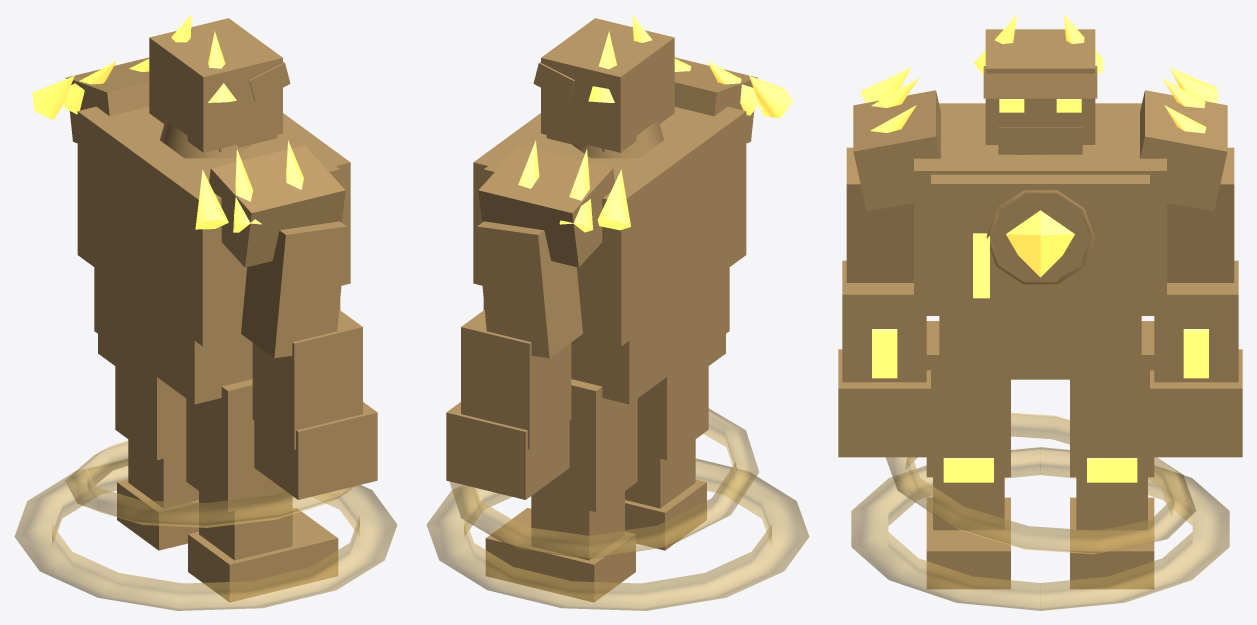
File: enemy_boss_desert.glb
3 renders of one model, left to right at view 1: azimuth 30°, elevation 25°; view 2: azimuth 150°, elevation 25°; view 3: azimuth 270°, elevation 25°, orthographic.
Parts seen in each view (by area): view 1: torso, sand_veil_low, head, arm_l_upper, arm_l_lower, hips, pauldron_l, thigh_l, fist_l, sand_veil_high, foot_l, thigh_r (+13 smaller); view 2: torso, sand_veil_low, head, arm_r_upper, arm_r_lower, sand_veil_high, hips, pauldron_r, thigh_r, fist_r, foot_r, thigh_l (+13 smaller); view 3: chest_plate, sand_veil_low, torso, hips, sand_veil_high, thigh_l, thigh_r, head, pauldron_l, pauldron_r, fist_l, fist_r (+19 smaller).
Part boxes in pixels (x1=…): torso: x1=77, y1=106, x2=340, y2=346; sand_veil_low: x1=14, y1=459, x2=396, y2=610; head: x1=149, y1=18, x2=282, y2=152; arm_l_upper: x1=241, y1=221, x2=346, y2=358; arm_l_lower: x1=252, y1=310, x2=362, y2=449; hips: x1=94, y1=267, x2=252, y2=404; pauldron_l: x1=209, y1=145, x2=345, y2=267; thigh_l: x1=186, y1=379, x2=292, y2=511; fist_l: x1=254, y1=402, x2=377, y2=499; sand_veil_high: x1=65, y1=440, x2=354, y2=527; foot_l: x1=188, y1=508, x2=338, y2=602; thigh_r: x1=115, y1=347, x2=186, y2=460; torso: x1=483, y1=106, x2=746, y2=346; sand_veil_low: x1=427, y1=458, x2=809, y2=610; head: x1=541, y1=18, x2=674, y2=152; arm_r_upper: x1=477, y1=221, x2=582, y2=358; arm_r_lower: x1=461, y1=310, x2=571, y2=449; sand_veil_high: x1=450, y1=409, x2=758, y2=558; hips: x1=571, y1=267, x2=729, y2=404; pauldron_r: x1=478, y1=145, x2=614, y2=267; thigh_r: x1=531, y1=379, x2=637, y2=511; fist_r: x1=446, y1=402, x2=569, y2=499; foot_r: x1=485, y1=508, x2=635, y2=602; thigh_l: x1=637, y1=347, x2=708, y2=460; chest_plate: x1=931, y1=174, x2=1149, y2=306; sand_veil_low: x1=851, y1=447, x2=1229, y2=610; torso: x1=914, y1=103, x2=1166, y2=315; hips: x1=939, y1=316, x2=1141, y2=379; sand_veil_high: x1=886, y1=412, x2=1196, y2=554; thigh_l: x1=926, y1=321, x2=1010, y2=477; thigh_r: x1=1070, y1=321, x2=1154, y2=477; head: x1=985, y1=29, x2=1095, y2=144; pauldron_l: x1=853, y1=90, x2=940, y2=211; pauldron_r: x1=1140, y1=90, x2=1227, y2=211; fist_l: x1=838, y1=349, x2=930, y2=457; fist_r: x1=1150, y1=349, x2=1242, y2=457.
Bounding box in the file's own units: 0.46 × 0.7025 × 0.48.
